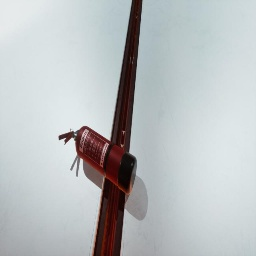FireExtinguisher ]: (58, 126, 137, 195)
